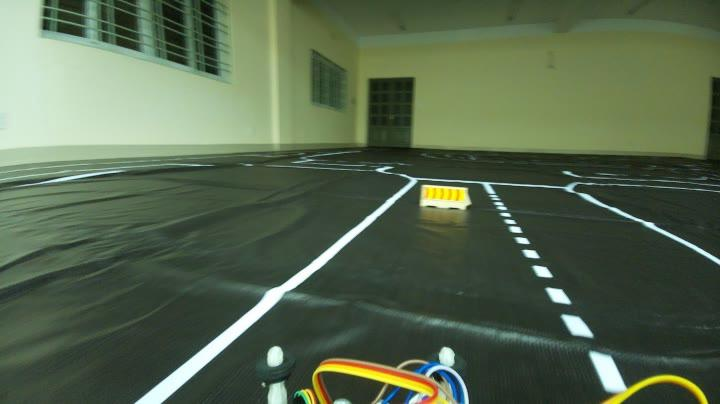roadblock: (417, 179, 476, 213)
